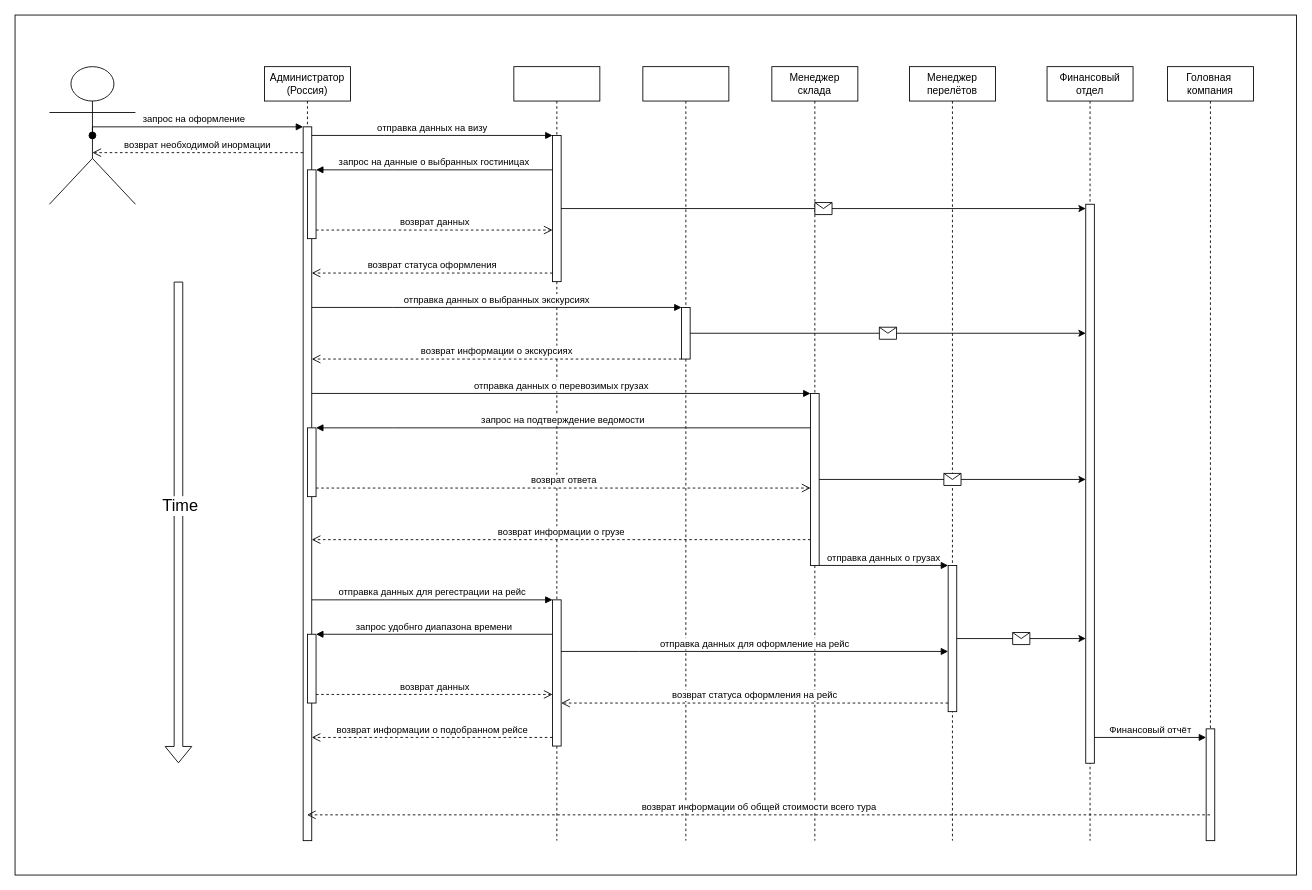
This 1312x890 diagram has some shape labels left out. Each missing label, with the box of its shape:
Tourist: (49, 66, 135, 204)
Администратор (Зарубежный): (513, 66, 600, 841)
Менеджер Экскурсий: (642, 66, 729, 841)
